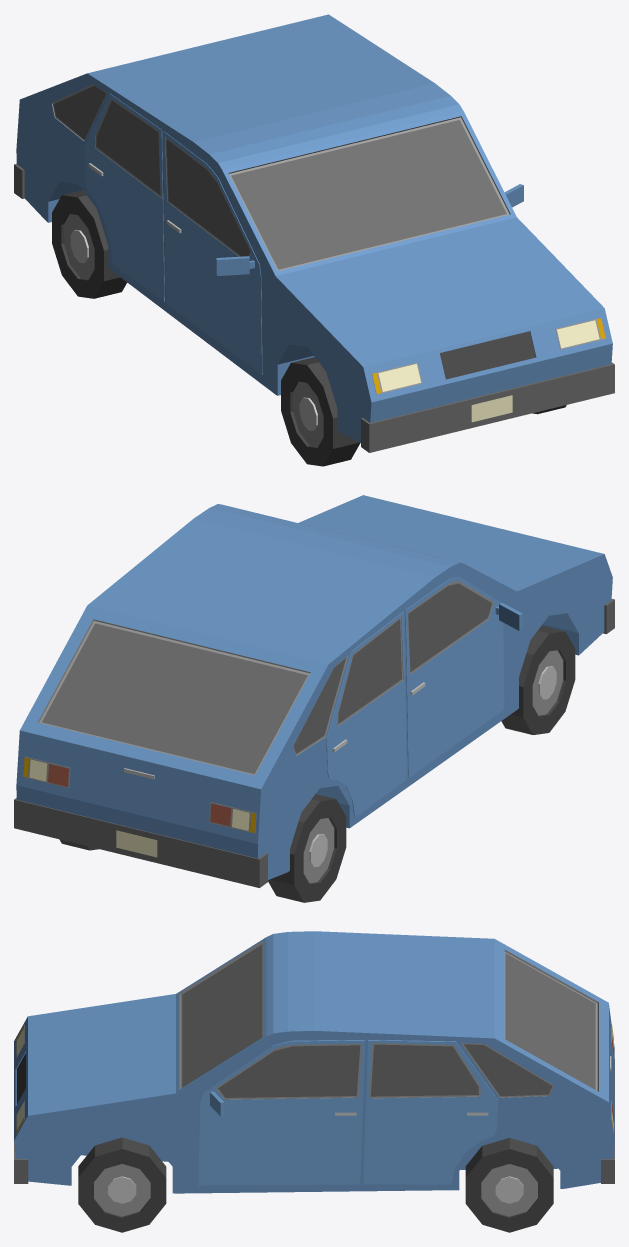
The model's file is foreign car.fbx.
3 views of the same model, one above another, from view 1: azimuth 30°, elevation 25°; view 2: azimuth 150°, elevation 25°; view 3: azimuth 270°, elevation 25° (orthographic). The views are drawn at different scales.
Parts seen in each view (by area): view 1: ege, Cylinder_2_2, Cylinder_2_3; view 2: ege, Cylinder_2_3, Cylinder_2_2; view 3: ege, Cylinder_2_1, Cylinder_2.
Part boxes in pixels (bbox=[...]): ege: bbox=[14, 14, 614, 452]; Cylinder_2_2: bbox=[281, 357, 360, 466]; Cylinder_2_3: bbox=[52, 190, 127, 298]; ege: bbox=[14, 495, 614, 887]; Cylinder_2_3: bbox=[268, 794, 346, 902]; Cylinder_2_2: bbox=[501, 625, 575, 734]; ege: bbox=[14, 931, 614, 1193]; Cylinder_2_1: bbox=[78, 1137, 166, 1232]; Cylinder_2: bbox=[465, 1138, 553, 1232].
Size of the model in its own units: 169 by 126 by 339.
